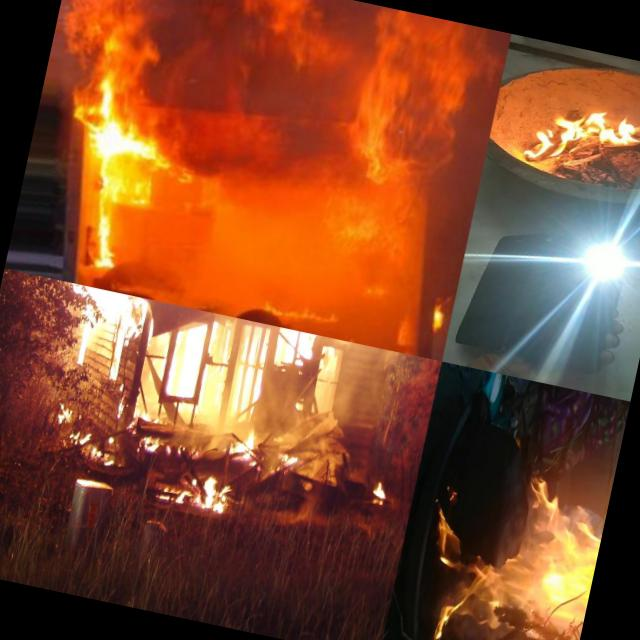fire: (51, 284, 392, 484), (342, 16, 492, 207), (56, 77, 192, 282), (544, 397, 630, 640), (514, 93, 640, 185), (172, 449, 246, 528), (42, 418, 134, 476), (392, 284, 452, 354), (258, 289, 342, 333), (359, 462, 405, 510)
smoke: (176, 32, 358, 198)
